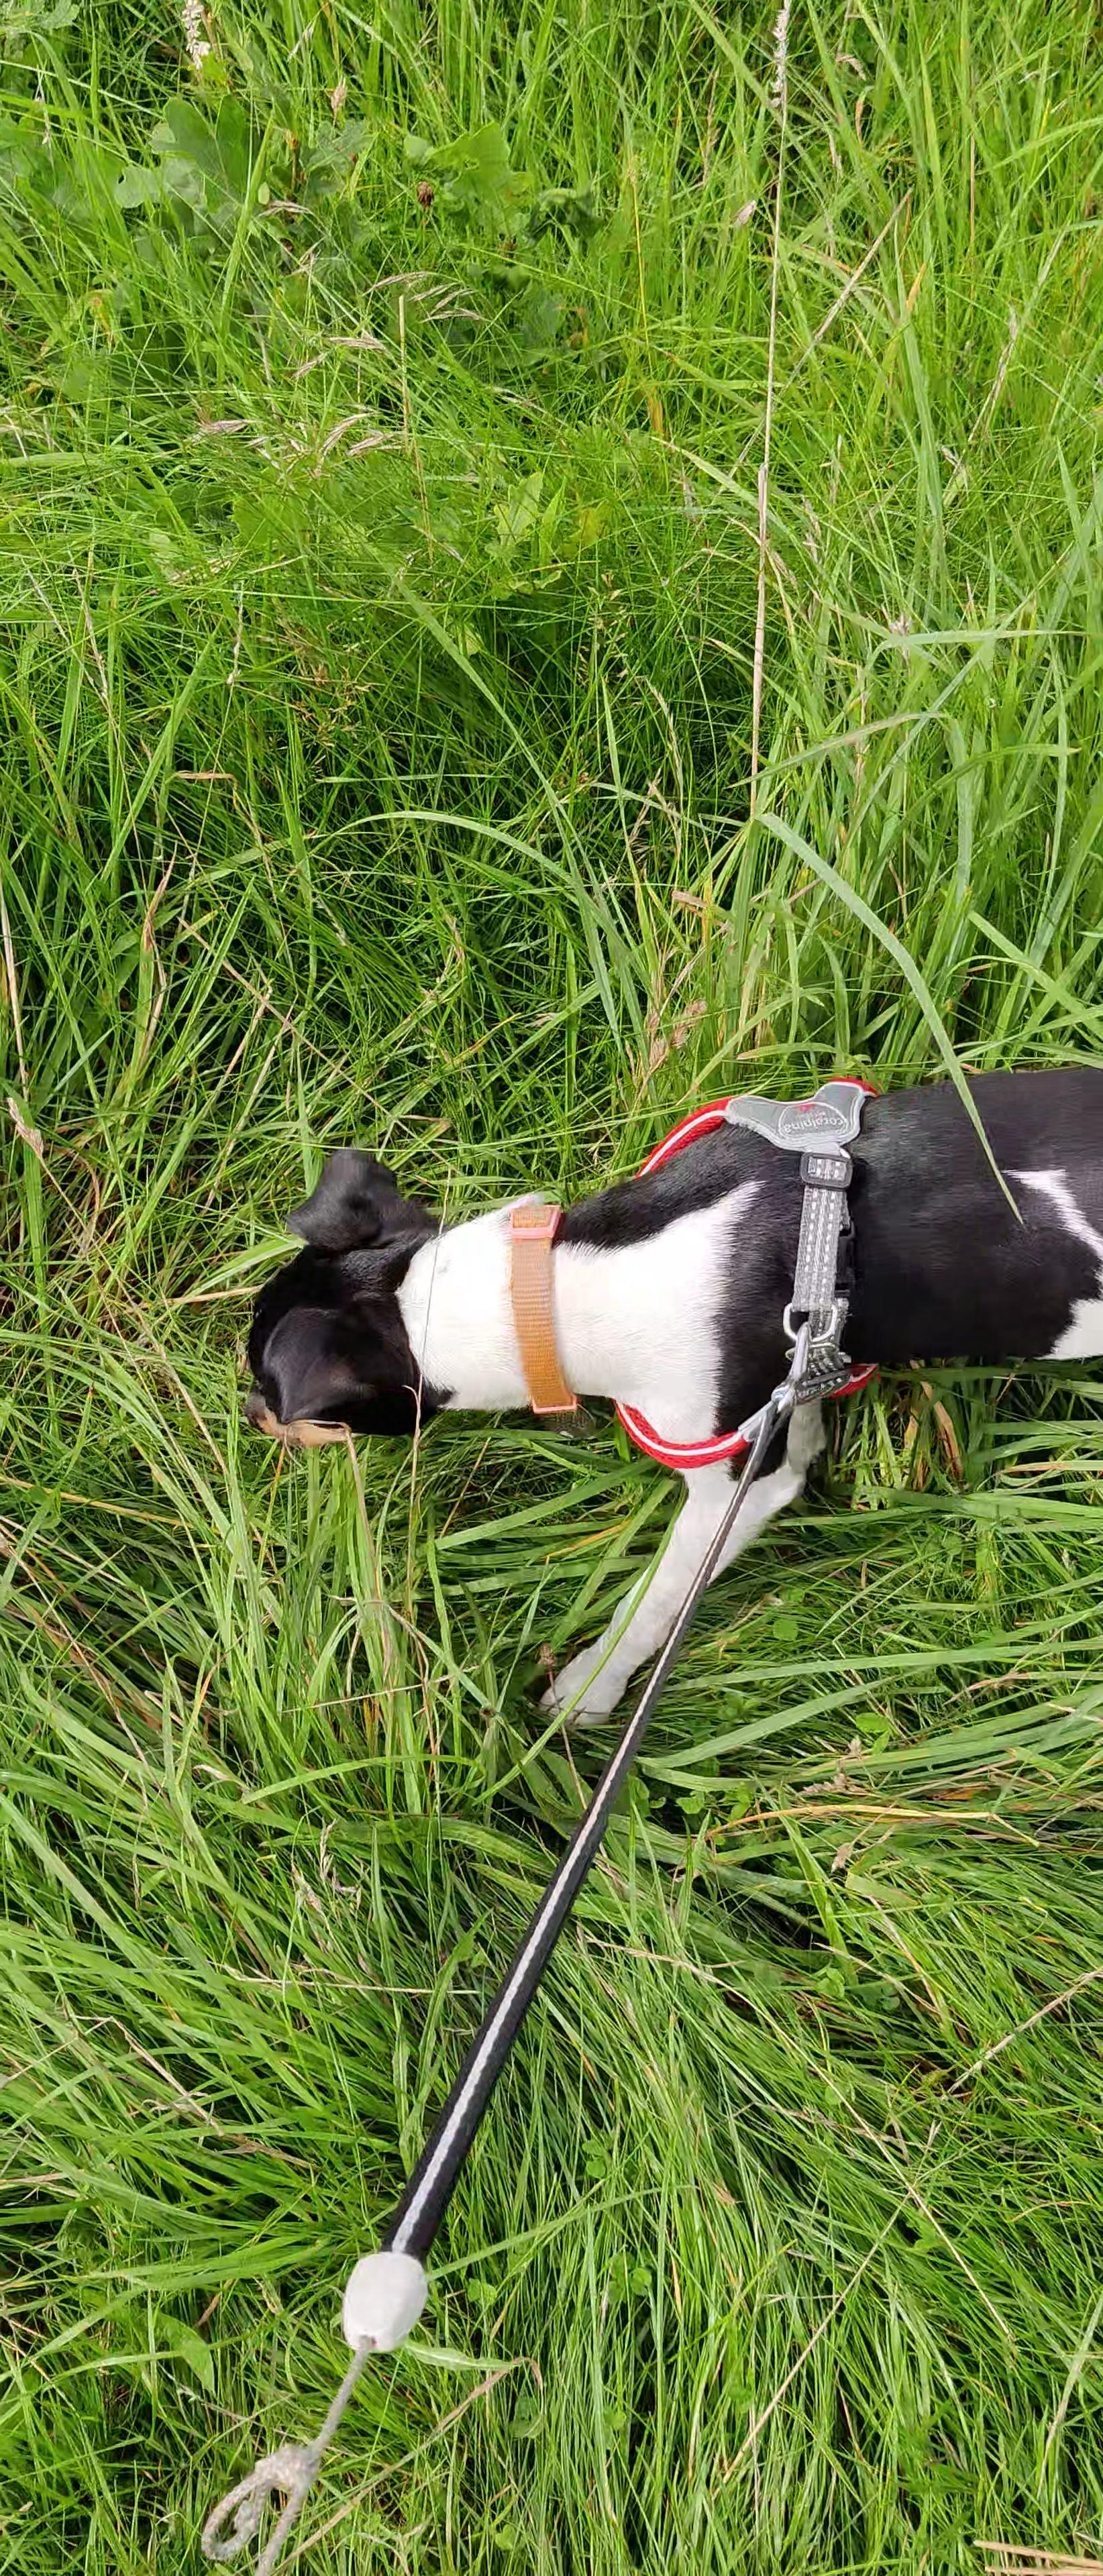Dog: (233, 1045, 1103, 1745)
